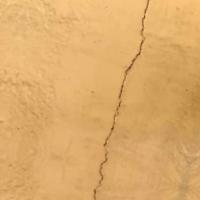crack: (87, 0, 149, 199)
